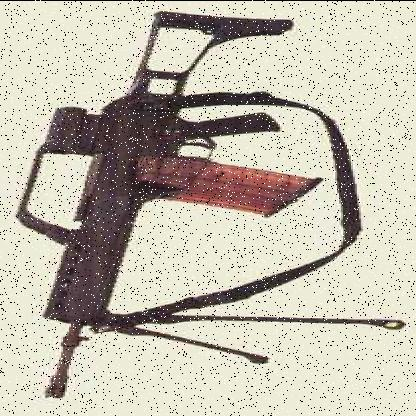rifle: (6, 8, 313, 399)
